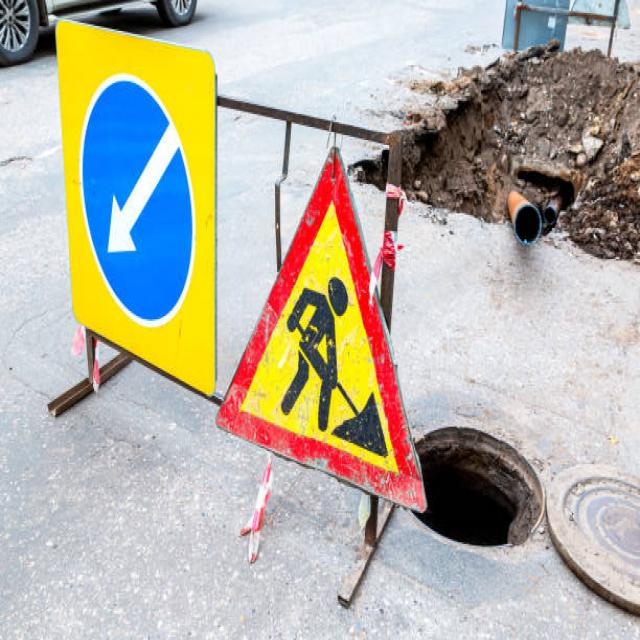road_work: (217, 128, 444, 509)
